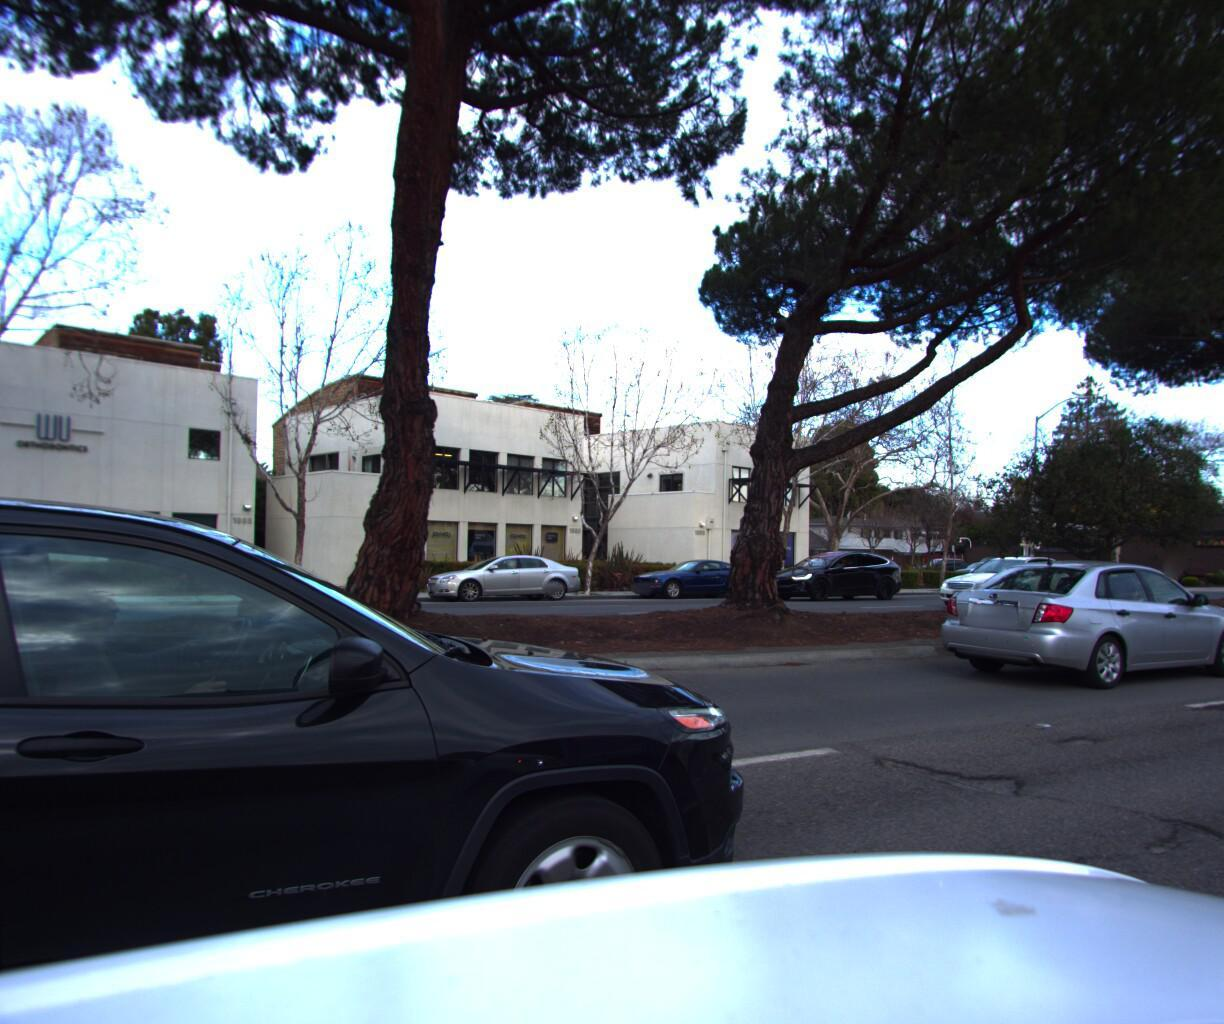car: (923, 545, 1224, 692), (410, 549, 586, 603), (925, 552, 1093, 608), (758, 545, 906, 597), (617, 552, 764, 599)
